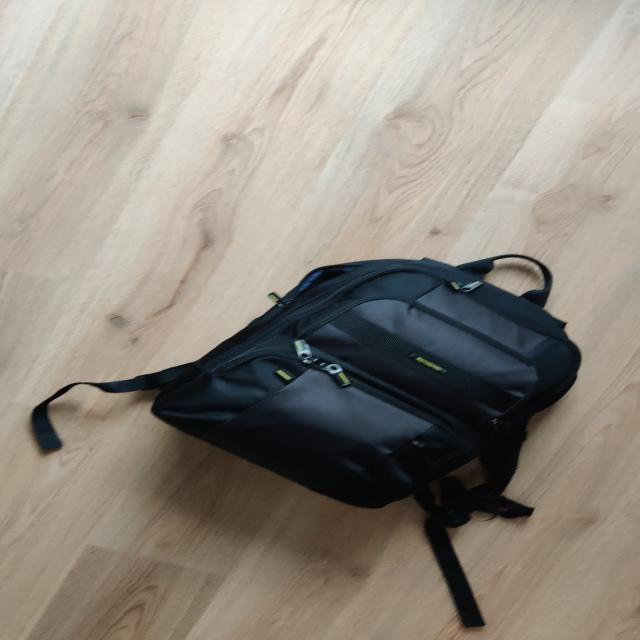backpack: (141, 246, 601, 531)
